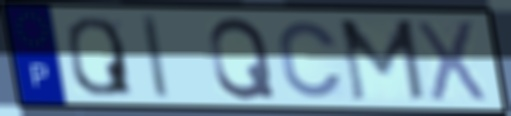C: (275, 18, 346, 101)
I: (138, 12, 173, 101)
M: (336, 17, 430, 104)
Q: (206, 15, 278, 102), (64, 14, 136, 98)
X: (413, 18, 490, 106)
